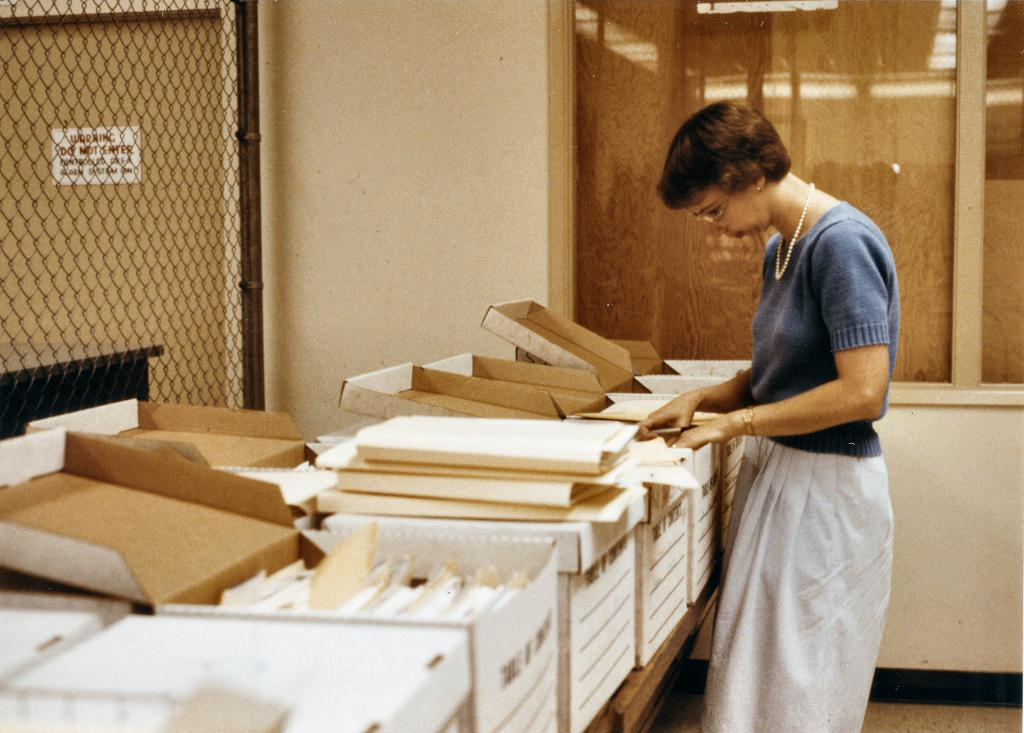Person: (636, 99, 900, 732)
